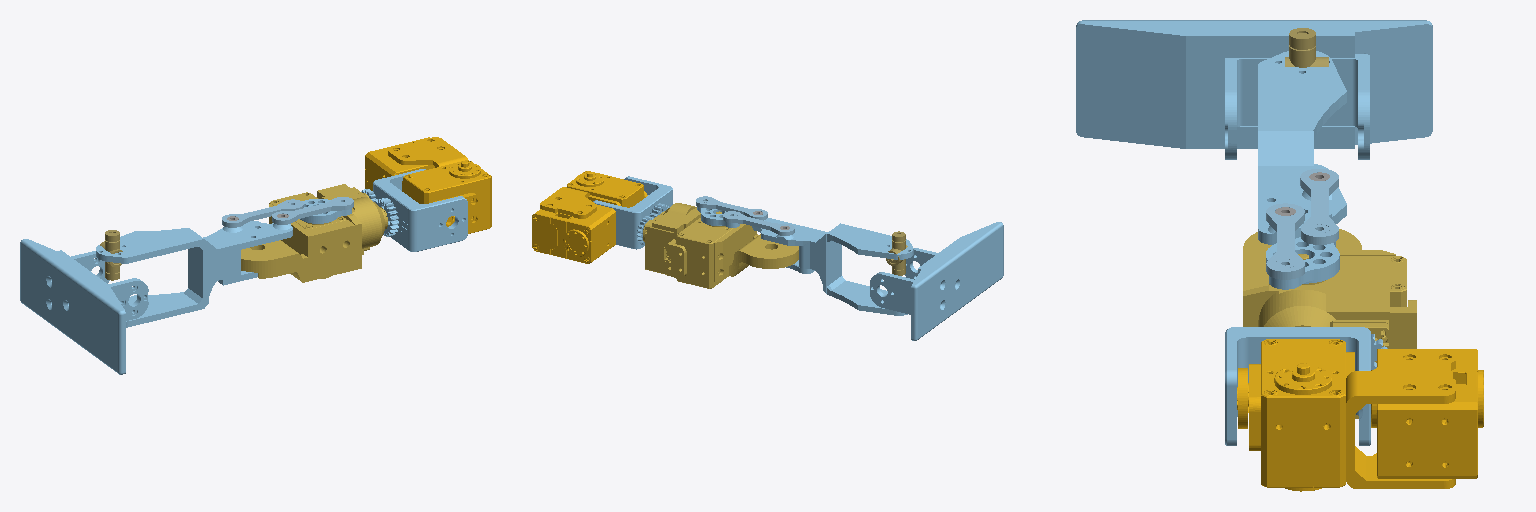
URDF robot description (left_leg_2xm):
<?xml version="1.0" ?><robot name="left_leg_2xm">  
  <link name="left_hip_pitch_link">    
    <visual>      
      <origin xyz="0 0 0" rpy="0 -0 0"/>      
      <geometry>        
        <mesh filename="package:///meshes/left_hip_pitch_link_visual.stl"/>        
      </geometry>      
      <material name="left_hip_pitch_link_material">        
        <color rgba="0.92982090412552342862 0.72254076531321620447 0.12744144951766167573 1.0"/>        
      </material>      
    </visual>    
    <collision>      
      <origin xyz="0 0 0" rpy="0 -0 0"/>      
      <geometry>        
        <mesh filename="package:///meshes/left_hip_pitch_link_collision.stl"/>        
      </geometry>      
    </collision>    
    <inertial>      
      <origin xyz="-0.011706350670177599962 0.019742757684791095024 -0.018852427217597104991" rpy="0 0 0"/>      
      <mass value="0.19376376696210850792"/>      
      <inertia ixx="0.00011804472850814715546" ixy="-1.5895078857706018834e-06" ixz="-3.4383747953545210347e-08" iyy="5.1588508581731065325e-05" iyz="7.4157570294140530861e-07" izz="0.00013525831069619408532"/>      
    </inertial>    
  </link>  

  <link name="hip_yaw_link">    
    <visual>      
      <origin xyz="0 0 0" rpy="0 -0 0"/>      
      <geometry>        
        <mesh filename="package:///meshes/left_hip_yaw_link_visual.stl"/>        
      </geometry>      
      <material name="hip_yaw_link_material">        
        <color rgba="0.61568627450980395466 0.81176470588235294379 0.92941176470588238168 1.0"/>        
      </material>      
    </visual>    
    <collision>      
      <origin xyz="0 0 0" rpy="0 -0 0"/>      
      <geometry>        
        <mesh filename="package:///meshes/left_hip_yaw_link_collision.stl"/>        
      </geometry>      
    </collision>    
    <inertial>      
      <origin xyz="-1.1351340770169766513e-06 0.016382481946049850391 0.024904960957045248898" rpy="0 0 0"/>      
      <mass value="0.013199999999999989519"/>      
      <inertia ixx="6.2164630245752423339e-06" ixy="1.711222792995632811e-10" ixz="2.3737014581360032619e-10" iyy="5.5106440267526434637e-06" iyz="8.1727857918858932185e-08" izz="2.6855910648547497853e-06"/>      
    </inertial>    
  </link>  

  <link name="spur_gear_21_teeth">    
    <visual>      
      <origin xyz="0 0 0" rpy="0 -0 0"/>      
      <geometry>        
        <mesh filename="package:///meshes/left_spur_gear_21_teeth_visual.stl"/>        
      </geometry>      
      <material name="spur_gear_21_teeth_material">        
        <color rgba="0.61568627450980395466 0.81176470588235294379 0.9294117647058824927 1.0"/>        
      </material>      
    </visual>    
    <collision>      
      <origin xyz="0 0 0" rpy="0 -0 0"/>      
      <geometry>        
        <mesh filename="package:///meshes/left_spur_gear_21_teeth_collision.stl"/>        
      </geometry>      
    </collision>    
    <inertial>      
      <origin xyz="-4.5505288977337882293e-11 -1.6782163717306987843e-11 -0.00249241020062506086" rpy="0 0 0"/>      
      <mass value="0.0021999999999999996989"/>      
      <inertia ixx="7.0162310059594183647e-08" ixy="3.0428041711026148533e-41" ixz="-6.0897863866794247362e-39" iyy="7.016231005804743531e-08" iyz="8.2010274057603441653e-39" izz="1.3125544198538286659e-07"/>      
    </inertial>    
  </link>  

  <link name="left_thigh_link">    
    <visual>      
      <origin xyz="0 0 0" rpy="0 -0 0"/>      
      <geometry>        
        <mesh filename="package:///meshes/left_thigh_link_visual.stl"/>        
      </geometry>      
      <material name="left_thigh_link_material">        
        <color rgba="0.8077380222132878318 0.71541030077254164077 0.35058406659986918186 1.0"/>        
      </material>      
    </visual>    
    <collision>      
      <origin xyz="0 0 0" rpy="0 -0 0"/>      
      <geometry>        
        <mesh filename="package:///meshes/left_thigh_link_collision.stl"/>        
      </geometry>      
    </collision>    
    <inertial>      
      <origin xyz="-0.009931074824787505459 -0.0055733268638735152314 0.039014117054800664941" rpy="0 0 0"/>      
      <mass value="0.14895408167669121902"/>      
      <inertia ixx="7.3955327919484757822e-05" ixy="-1.1805488631448604991e-06" ixz="-8.0603251552292583818e-06" iyy="8.899510291969826045e-05" iyz="1.1275669888580036226e-06" izz="4.2292269256454549447e-05"/>      
    </inertial>    
  </link>  

  <link name="spur_gear_18_teeth">    
    <visual>      
      <origin xyz="0 0 0" rpy="0 -0 0"/>      
      <geometry>        
        <mesh filename="package:///meshes/left_spur_gear_18_teeth_visual.stl"/>        
      </geometry>      
      <material name="spur_gear_18_teeth_material">        
        <color rgba="0.61568627450980395466 0.81176470588235294379 0.92941176470588238168 1.0"/>        
      </material>      
    </visual>    
    <collision>      
      <origin xyz="0 0 0" rpy="0 -0 0"/>      
      <geometry>        
        <mesh filename="package:///meshes/left_spur_gear_18_teeth_collision.stl"/>        
      </geometry>      
    </collision>    
    <inertial>      
      <origin xyz="2.6439001777770671405e-18 8.5434987333314918169e-18 0.0017500000000000108785" rpy="0 0 0"/>      
      <mass value="0.0012000000000000001117"/>      
      <inertia ixx="2.9545593202975793532e-08" ixy="1.2314171653707795068e-23" ixz="-9.4023651664732437708e-36" iyy="2.9545593202975863016e-08" iyz="1.5954477302672659434e-36" izz="5.6662838285388571446e-08"/>      
    </inertial>    
  </link>  

  <joint name="left_hip_yaw_drive" type="revolute">    
    <origin xyz="-0.019199999999993382083 0.00020000000000426967905 -3.438915818776422384e-14" rpy="-3.1415926535896581129 -4.9090714472496588269e-13 4.6739125815344266384e-13"/>    
    <parent link="left_thigh_link"/>    
    <child link="spur_gear_18_teeth"/>    
    <axis xyz="0 0 1"/>    
    <limit effort="1" velocity="20" lower="-1.8325957145940461324" upper="1.8325957145940461324"/>    
    <joint_properties friction="0.0"/>    
  </joint>  

  <link name="left_calf_link">    
    <visual>      
      <origin xyz="0 0 0" rpy="0 -0 0"/>      
      <geometry>        
        <mesh filename="package:///meshes/left_calf_link_visual.stl"/>        
      </geometry>      
      <material name="left_calf_link_material">        
        <color rgba="0.61568627450980395466 0.81176470588235283277 0.92941176470588238168 1.0"/>        
      </material>      
    </visual>    
    <collision>      
      <origin xyz="0 0 0" rpy="0 -0 0"/>      
      <geometry>        
        <mesh filename="package:///meshes/left_calf_link_collision.stl"/>        
      </geometry>      
    </collision>    
    <inertial>      
      <origin xyz="-0.004345005439123867351 0.04075298216524993189 0.0087116093515531897035" rpy="0 0 0"/>      
      <mass value="0.03099999999999998937"/>      
      <inertia ixx="3.3069388685111919361e-05" ixy="-1.3783307153201250192e-06" ixz="-1.2742534026333974449e-07" iyy="7.7316525337312093391e-06" iyz="-7.3356500593832537363e-08" izz="2.8031377753986202908e-05"/>      
    </inertial>    
  </link>  

  <link name="bearing_683">    
    <visual>      
      <origin xyz="0 0 0" rpy="0 -0 0"/>      
      <geometry>        
        <mesh filename="package:///meshes/left_bearing_683_visual.stl"/>        
      </geometry>      
      <material name="bearing_683_material">        
        <color rgba="0.64705882352941179736 0.64705882352941179736 0.64705882352941179736 1.0"/>        
      </material>      
    </visual>    
    <collision>      
      <origin xyz="0 0 0" rpy="0 -0 0"/>      
      <geometry>        
        <mesh filename="package:///meshes/left_bearing_683_collision.stl"/>        
      </geometry>      
    </collision>    
    <inertial>      
      <origin xyz="1.0732094295237694297e-19 -2.4186774283160226211e-19 -0.0015500000000000003792" rpy="0 0 0"/>      
      <mass value="0.00048694686130641793437"/>      
      <inertia ixx="2.1551456503319879113e-09" ixy="-6.2799976202677632124e-28" ixz="5.1534174171568426072e-40" iyy="2.1551456503319883249e-09" iyz="-5.0160366256123927433e-41" izz="3.5303647444715305817e-09"/>      
    </inertial>    
  </link>  

  <joint name="left_knee_front_rev_2" type="revolute">    
    <origin xyz="-0.0057402514854763136976 -0.013858192987669076812 0.026199999999999178807" rpy="3.141592653589793116 -3.6846712218145297232e-15 -1.5696597423400153737"/>    
    <parent link="left_calf_link"/>    
    <child link="bearing_683"/>    
    <axis xyz="0 0 1"/>    
    <limit effort="1" velocity="20"/>    
    <joint_properties friction="0.0"/>    
  </joint>  

  <link name="bearing_683_2">    
    <visual>      
      <origin xyz="0 0 0" rpy="0 -0 0"/>      
      <geometry>        
        <mesh filename="package:///meshes/left_bearing_683_2_visual.stl"/>        
      </geometry>      
      <material name="bearing_683_2_material">        
        <color rgba="0.64705882352941179736 0.64705882352941179736 0.64705882352941179736 1.0"/>        
      </material>      
    </visual>    
    <collision>      
      <origin xyz="0 0 0" rpy="0 -0 0"/>      
      <geometry>        
        <mesh filename="package:///meshes/left_bearing_683_2_collision.stl"/>        
      </geometry>      
    </collision>    
    <inertial>      
      <origin xyz="1.0732094295237709945e-19 6.2549399515680022583e-19 -0.0015500000000000001624" rpy="0 0 0"/>      
      <mass value="0.00048694686130641793437"/>      
      <inertia ixx="2.1551456503319887385e-09" ixy="1.5334993719773141702e-28" ixz="-4.3380717671628368304e-42" iyy="2.1551456503319891521e-09" iyz="2.8653118878668096225e-39" izz="3.5303647444715305817e-09"/>      
    </inertial>    
  </link>  

  <joint name="left_knee_back_rev_2" type="revolute">    
    <origin xyz="0.0057402514854765652325 0.013858192987669493146 0.026199999999999244726" rpy="-3.1415926535897873428 -6.1642758581299746636e-16 -1.569659900865386204"/>    
    <parent link="left_calf_link"/>    
    <child link="bearing_683_2"/>    
    <axis xyz="0 0 1"/>    
    <limit effort="1" velocity="20"/>    
    <joint_properties friction="0.0"/>    
  </joint>  

  <link name="left_ank_pitch_link">    
    <visual>      
      <origin xyz="0 0 0" rpy="0 -0 0"/>      
      <geometry>        
        <mesh filename="package:///meshes/left_ank_pitch_link_visual.stl"/>        
      </geometry>      
      <material name="left_ank_pitch_link_material">        
        <color rgba="0.70321688500203327621 0.64514870846184446673 0.40484735422826279017 1.0"/>        
      </material>      
    </visual>    
    <collision>      
      <origin xyz="0 0 0" rpy="0 -0 0"/>      
      <geometry>        
        <mesh filename="package:///meshes/left_ank_pitch_link_collision.stl"/>        
      </geometry>      
    </collision>    
    <inertial>      
      <origin xyz="0.017770422751691619667 0.012417933919336193033 0.018813528244421732355" rpy="0 0 0"/>      
      <mass value="0.17676376695067899658"/>      
      <inertia ixx="4.7033214273546878508e-05" ixy="-5.8981911382268089093e-07" ixz="-5.5304655046867245964e-07" iyy="0.00010706748281469059521" iyz="-5.954368905048644969e-08" izz="0.00012159782211823027165"/>      
    </inertial>    
  </link>  

  <link name="ank_roll_link">    
    <visual>      
      <origin xyz="0 0 0" rpy="0 -0 0"/>      
      <geometry>        
        <mesh filename="package:///meshes/left_ank_roll_link_visual.stl"/>        
      </geometry>      
      <material name="ank_roll_link_material">        
        <color rgba="0.61568627450980395466 0.81176470588235294379 0.92941176470588238168 1.0"/>        
      </material>      
    </visual>    
    <collision>      
      <origin xyz="0 0 0" rpy="0 -0 0"/>      
      <geometry>        
        <mesh filename="package:///meshes/left_ank_roll_link_collision.stl"/>        
      </geometry>      
    </collision>    
    <inertial>      
      <origin xyz="-0.026987231947660717674 5.653272469623604523e-13 0.033766671354451605058" rpy="0 0 0"/>      
      <mass value="0.042599999999999998979"/>      
      <inertia ixx="3.7149943594120509295e-05" ixy="1.94807275579421073e-17" ixz="2.3895918372294030898e-06" iyy="3.7472718057542804256e-05" iyz="7.8258680835538914296e-12" izz="1.0051685129153406552e-05"/>      
    </inertial>    
  </link>  

  <joint name="left_ank_roll" type="revolute">    
    <origin xyz="0.022749999999981843773 -7.882583474838611437e-15 0.01900000000000073852" rpy="-1.5707963267949500707 -9.3641111455497678285e-15 1.5707963267951978725"/>    
    <parent link="left_ank_pitch_link"/>    
    <child link="ank_roll_link"/>    
    <axis xyz="0 0 1"/>    
    <limit effort="1" velocity="20" lower="-1.570796326794896558" upper="1.570796326794896558"/>    
    <joint_properties friction="0.0"/>    
  </joint>  

  <joint name="left_ank_pitch" type="revolute">    
    <origin xyz="1.3731962615615156409e-15 0.099999999999997951639 0.02774999999999918851" rpy="3.141592653589793116 -4.9446121211182754037e-18 -2.0452759225209035521e-15"/>    
    <parent link="left_calf_link"/>    
    <child link="left_ank_pitch_link"/>    
    <axis xyz="0 0 1"/>    
    <limit effort="1" velocity="20" lower="-1.7453292519943295336" upper="0.785398163397448279"/>    
    <joint_properties friction="0.0"/>    
  </joint>  

  <joint name="left_knee" type="revolute">    
    <origin xyz="3.2303803729205604611e-16 -0.0087500000000000285882 0.085950000000000484346" rpy="1.5707963267948998887 9.1903399882501304125e-17 -3.1415926535897926719"/>    
    <parent link="left_thigh_link"/>    
    <child link="left_calf_link"/>    
    <axis xyz="0 0 1"/>    
    <limit effort="1" velocity="20" lower="-1.570796326794896558" upper="0"/>    
    <joint_properties friction="0.0"/>    
  </joint>  

  <link name="xm430_plate">    
    <visual>      
      <origin xyz="0 0 0" rpy="0 -0 0"/>      
      <geometry>        
        <mesh filename="package:///meshes/left_xm430_plate_visual.stl"/>        
      </geometry>      
      <material name="xm430_plate_material">        
        <color rgba="0.61568627450980395466 0.81176470588235294379 0.92941176470588227065 1.0"/>        
      </material>      
    </visual>    
    <collision>      
      <origin xyz="0 0 0" rpy="0 -0 0"/>      
      <geometry>        
        <mesh filename="package:///meshes/left_xm430_plate_collision.stl"/>        
      </geometry>      
    </collision>    
    <inertial>      
      <origin xyz="1.2199949069473465797e-18 -2.5675705000662896147e-18 0.0025278513919583852493" rpy="0 0 0"/>      
      <mass value="0.0026999999999999997093"/>      
      <inertia ixx="1.2887178787151819394e-07" ixy="5.8739562556303553596e-08" ixz="8.8620754357183379589e-39" iyy="2.4635091298412528789e-07" iyz="4.4470047921031726444e-38" izz="3.646799841381030595e-07"/>      
    </inertial>    
  </link>  

  <link name="knee_rod">    
    <visual>      
      <origin xyz="0 0 0" rpy="0 -0 0"/>      
      <geometry>        
        <mesh filename="package:///meshes/left_knee_rod_visual.stl"/>        
      </geometry>      
      <material name="knee_rod_material">        
        <color rgba="0.62051618944235198416 0.78640765248647581664 0.88594253031295022716 1.0"/>        
      </material>      
    </visual>    
    <collision>      
      <origin xyz="0 0 0" rpy="0 -0 0"/>      
      <geometry>        
        <mesh filename="package:///meshes/left_knee_rod_collision.stl"/>        
      </geometry>      
    </collision>    
    <inertial>      
      <origin xyz="0.017534290263858352821 3.9858446391435727811e-05 -0.0015981336617514451531" rpy="0 0 0"/>      
      <mass value="0.0031629468613064179276"/>      
      <inertia ixx="2.7978945925001967021e-08" ixy="-4.0224987309131433355e-10" ixz="4.8576302098649207963e-10" iyy="8.7495154957252311209e-07" iyz="1.1042225844322773014e-12" izz="8.9816306921226656837e-07"/>      
    </inertial>    
  </link>  

  <joint name="left_knee_front_rev_1" type="revolute">    
    <origin xyz="0.013858192987669049057 -0.0057402514854763527288 0.0049999999999999914305" rpy="-3.1415926535897908956 3.4964474193337374653e-15 -3.1404560691349008295"/>    
    <parent link="xm430_plate"/>    
    <child link="knee_rod"/>    
    <axis xyz="0 0 1"/>    
    <limit effort="1" velocity="20"/>    
    <joint_properties friction="0.0"/>    
  </joint>  

  <link name="knee_rod_2">    
    <visual>      
      <origin xyz="0 0 0" rpy="0 -0 0"/>      
      <geometry>        
        <mesh filename="package:///meshes/left_knee_rod_2_visual.stl"/>        
      </geometry>      
      <material name="knee_rod_2_material">        
        <color rgba="0.62051618944235198416 0.78640765248647581664 0.88594253031295022716 1.0"/>        
      </material>      
    </visual>    
    <collision>      
      <origin xyz="0 0 0" rpy="0 -0 0"/>      
      <geometry>        
        <mesh filename="package:///meshes/left_knee_rod_2_collision.stl"/>        
      </geometry>      
    </collision>    
    <inertial>      
      <origin xyz="0.017534290270177187165 3.9852887128006895645e-05 -0.0015981336617513928946" rpy="0 0 0"/>      
      <mass value="0.0031629468613064179276"/>      
      <inertia ixx="2.7978945669952882124e-08" ixy="-4.0219376936919183332e-10" ixz="4.8576302116128196051e-10" iyy="8.7495154970007240378e-07" iyz="1.1040685742798436999e-12" izz="8.9816306908475899306e-07"/>      
    </inertial>    
  </link>  

  <joint name="left_knee_back_rev_1" type="revolute">    
    <origin xyz="-0.013858192987669118446 0.0057402514854763457899 0.0049999999999999888284" rpy="3.1415926535897873428 1.9452985330695691049e-16 -3.1404562276602714377"/>    
    <parent link="xm430_plate"/>    
    <child link="knee_rod_2"/>    
    <axis xyz="0 0 1"/>    
    <limit effort="1" velocity="20"/>    
    <joint_properties friction="0.0"/>    
  </joint>  

  <joint name="left_knee_act" type="revolute">    
    <origin xyz="1.4647571350279164903e-16 0.012449999999999985384 0.044500000000000053402" rpy="-1.57079632679489678 1.5707963267948930053 0"/>    
    <parent link="left_thigh_link"/>    
    <child link="xm430_plate"/>    
    <axis xyz="0 0 1"/>    
    <limit effort="1" velocity="20" lower="-1.570796326794896558" upper="0"/>    
    <joint_properties friction="0.0"/>    
  </joint>  

  <joint name="left_hip_yaw_driven" type="revolute">    
    <origin xyz="-1.5720931501039814293e-18 -3.4694469519536141888e-18 -0.0050000000000000044409" rpy="-3.1415926535897904515 -2.6731719319053922034e-15 1.0531803182873569707e-15"/>    
    <parent link="spur_gear_21_teeth"/>    
    <child link="left_thigh_link"/>    
    <axis xyz="0 0 1"/>    
    <limit effort="1" velocity="20" lower="-1.570796326794896558" upper="1.570796326794896558"/>    
    <joint_properties friction="0.0"/>    
  </joint>  

  <joint name="left_hip_yaw_fixed" type="fixed">    
    <origin xyz="0 0.027999999999999993644 0.02300000000000000655" rpy="1.570796326794896336 -1.5707963267948870101 0"/>    
    <parent link="hip_yaw_link"/>    
    <child link="spur_gear_21_teeth"/>    
    <axis xyz="0 0 1"/>    
    <limit effort="1" velocity="20"/>    
    <joint_properties friction="0.0"/>    
  </joint>  

  <joint name="left_hip_roll" type="revolute">    
    <origin xyz="-0.023749999999998987199 0.022750000000000013267 -0.019050000000000236883" rpy="1.5707963267948872321 -1.5707963267948945596 0"/>    
    <parent link="left_hip_pitch_link"/>    
    <child link="hip_yaw_link"/>    
    <axis xyz="0 0 1"/>    
    <limit effort="1" velocity="20" lower="-1.570796326794896558" upper="1.570796326794896558"/>    
    <joint_properties friction="0.0"/>    
  </joint>  


</robot>

--- Render facts (derived) ---
The picture shows the robot from 3 angles, left to right: view 1: azimuth 30°, elevation 25°; view 2: azimuth 150°, elevation 25°; view 3: azimuth 270°, elevation 25°; orthographic projection.
Robot: left_leg_2xm — 13 links, 12 joints (11 revolute, 1 fixed); root link left_hip_pitch_link; default pose: every joint at zero.
Links seen in each view (by area): view 1: ank_roll_link, left_calf_link, left_thigh_link, left_hip_pitch_link, hip_yaw_link, knee_rod, knee_rod_2, left_ank_pitch_link, xm430_plate; view 2: ank_roll_link, left_thigh_link, left_hip_pitch_link, left_calf_link, hip_yaw_link, knee_rod_2, knee_rod, left_ank_pitch_link; view 3: ank_roll_link, left_hip_pitch_link, left_thigh_link, left_calf_link, hip_yaw_link, knee_rod, knee_rod_2, xm430_plate, left_ank_pitch_link.
Boxes of the visible links, x1=… form: ank_roll_link: x1=20, y1=239, x2=148, y2=374; left_calf_link: x1=96, y1=221, x2=292, y2=327; left_thigh_link: x1=241, y1=184, x2=387, y2=282; left_hip_pitch_link: x1=365, y1=137, x2=491, y2=233; hip_yaw_link: x1=373, y1=169, x2=467, y2=251; knee_rod: x1=272, y1=197, x2=353, y2=224; knee_rod_2: x1=222, y1=199, x2=303, y2=227; left_ank_pitch_link: x1=100, y1=230, x2=122, y2=280; xm430_plate: x1=300, y1=199, x2=351, y2=223; ank_roll_link: x1=870, y1=222, x2=1003, y2=340; left_thigh_link: x1=643, y1=203, x2=798, y2=288; left_hip_pitch_link: x1=532, y1=171, x2=647, y2=263; left_calf_link: x1=752, y1=218, x2=913, y2=315; hip_yaw_link: x1=593, y1=176, x2=672, y2=249; knee_rod_2: x1=723, y1=211, x2=794, y2=235; knee_rod: x1=696, y1=196, x2=767, y2=220; left_ank_pitch_link: x1=886, y1=231, x2=907, y2=275; ank_roll_link: x1=1076, y1=20, x2=1432, y2=159; left_hip_pitch_link: x1=1237, y1=339, x2=1483, y2=491; left_thigh_link: x1=1243, y1=229, x2=1416, y2=418; left_calf_link: x1=1258, y1=51, x2=1346, y2=244; hip_yaw_link: x1=1225, y1=327, x2=1370, y2=445; knee_rod: x1=1266, y1=203, x2=1304, y2=279; knee_rod_2: x1=1300, y1=169, x2=1338, y2=244; xm430_plate: x1=1266, y1=237, x2=1339, y2=289; left_ank_pitch_link: x1=1285, y1=28, x2=1328, y2=67.
Bounding box of the posed robot: 0.2932 × 0.1373 × 0.0591 m (x, y, z).
13 mesh visuals loaded from 13 distinct referenced files (13 binary STL).